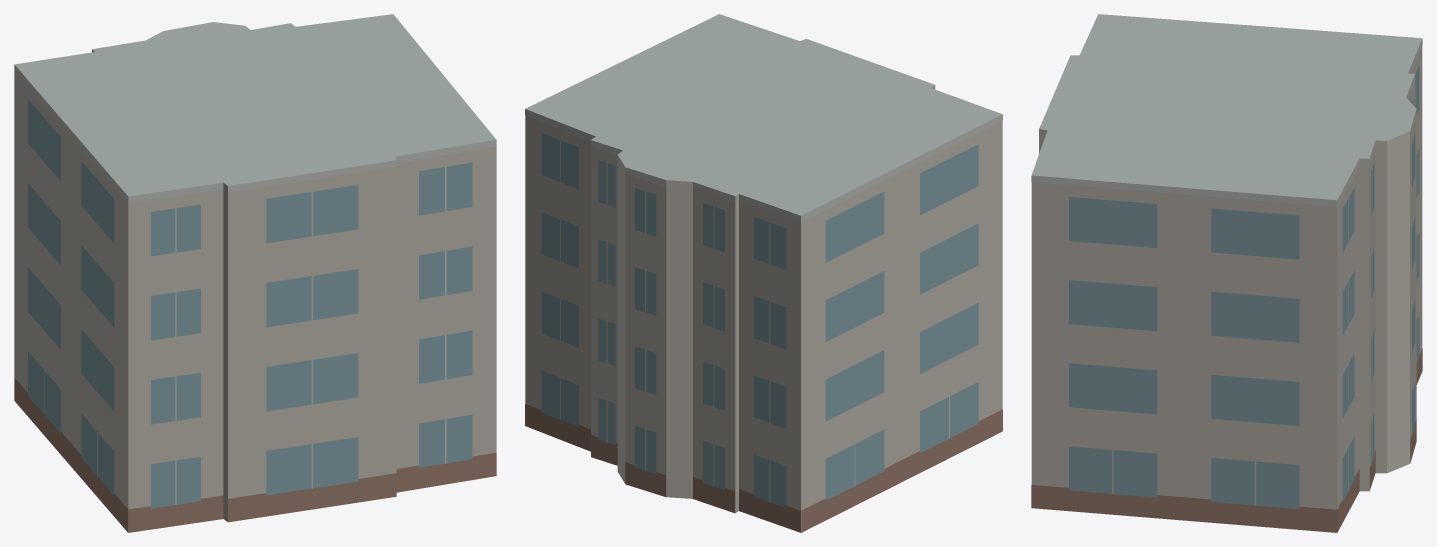
Rendered from survey-upis-32907861.glb.
3 views of the same model, side by side, from view 1: azimuth 30°, elevation 25°; view 2: azimuth 150°, elevation 25°; view 3: azimuth 270°, elevation 25° (orthographic). The views are drawn at different scales.
Parts seen in each view (by area): view 1: survey-upis-32907861.tmp; view 2: survey-upis-32907861.tmp; view 3: survey-upis-32907861.tmp.
Boxes of the visible parts, x1=… form: survey-upis-32907861.tmp: x1=14, y1=14, x2=496, y2=532; survey-upis-32907861.tmp: x1=525, y1=14, x2=1002, y2=532; survey-upis-32907861.tmp: x1=1031, y1=14, x2=1422, y2=532.
Bounding box in the file's own units: 14.6 × 12.15 × 12.96.
